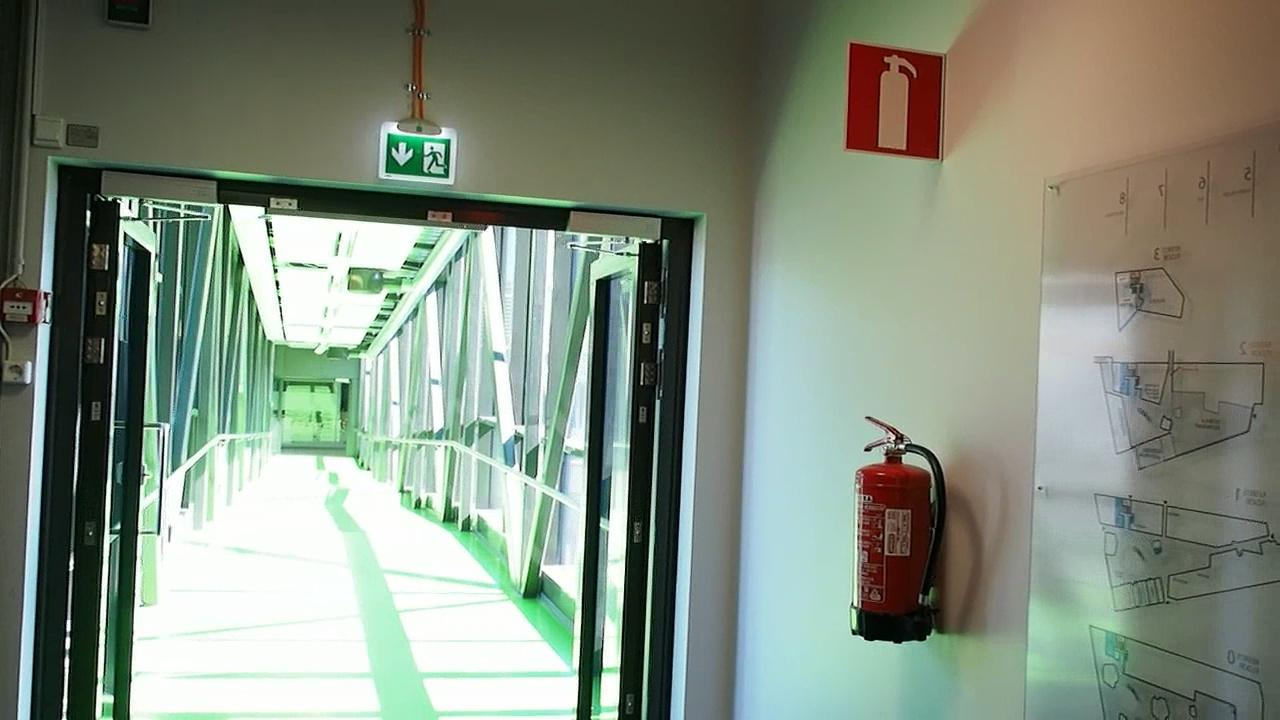exit: (379, 126, 452, 178)
fireextinguisher: (839, 411, 950, 654), (850, 44, 948, 151)
